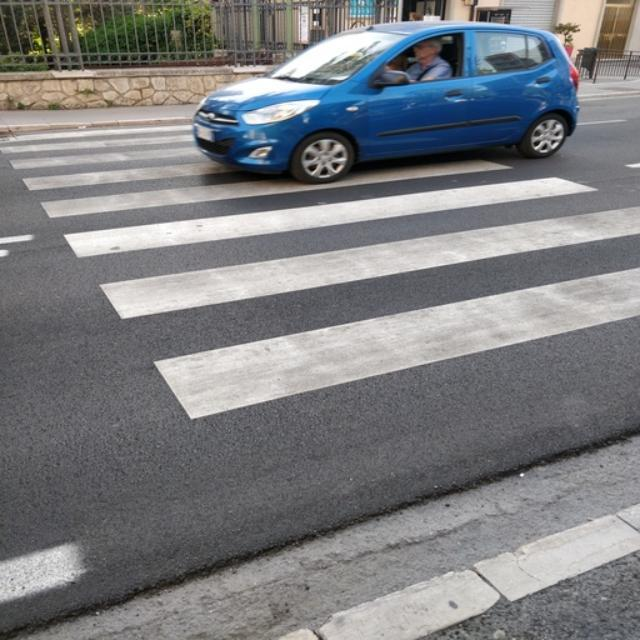sidewalk: (5, 130, 636, 429)
